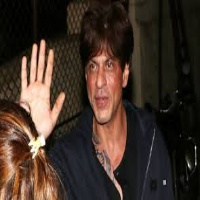ring: (29, 42, 37, 87)
